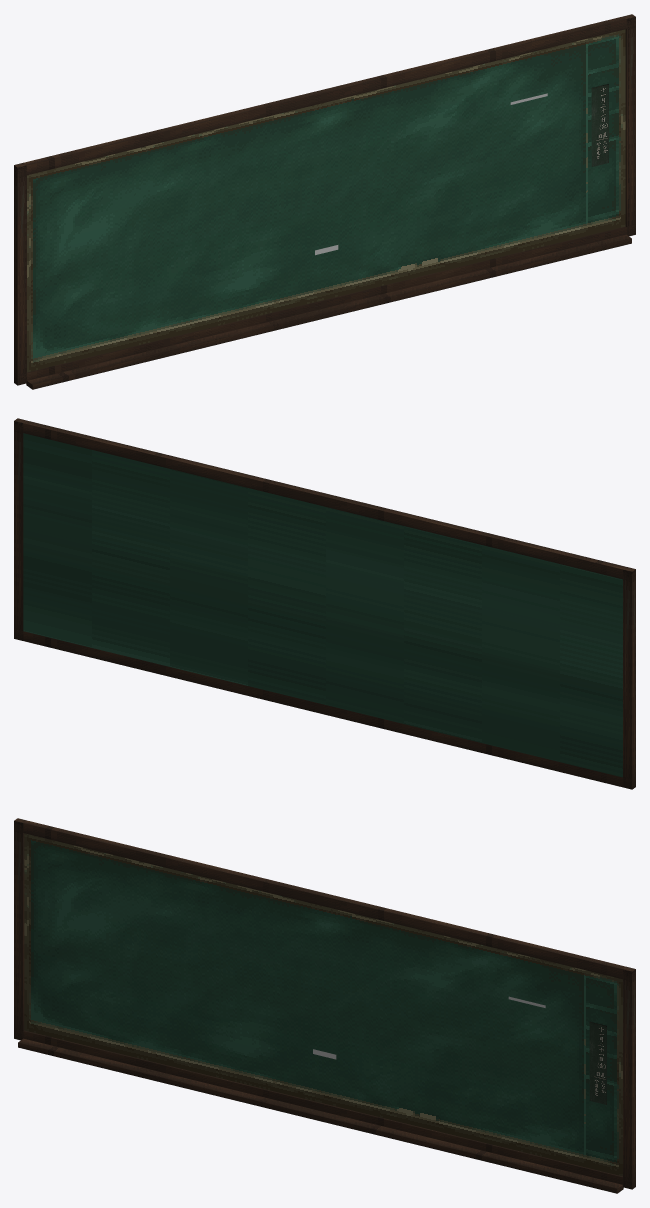
Rendered from prop_blackboard-large-1.glb.
3 views of the same model, one above another, from view 1: azimuth 30°, elevation 25°; view 2: azimuth 150°, elevation 25°; view 3: azimuth 330°, elevation 25° (orthographic).
Visible parts, largest first — view 1: prop_blackboard-large-1; view 2: prop_blackboard-large-1; view 3: prop_blackboard-large-1.
Boxes of the visible parts, <box> form: prop_blackboard-large-1: <box>14,14,635,389</box>; prop_blackboard-large-1: <box>14,418,635,789</box>; prop_blackboard-large-1: <box>14,818,635,1193</box>.
Size of the model in its own units: 3.92 by 1.34 by 0.1.
4 materials, 4 textured.
